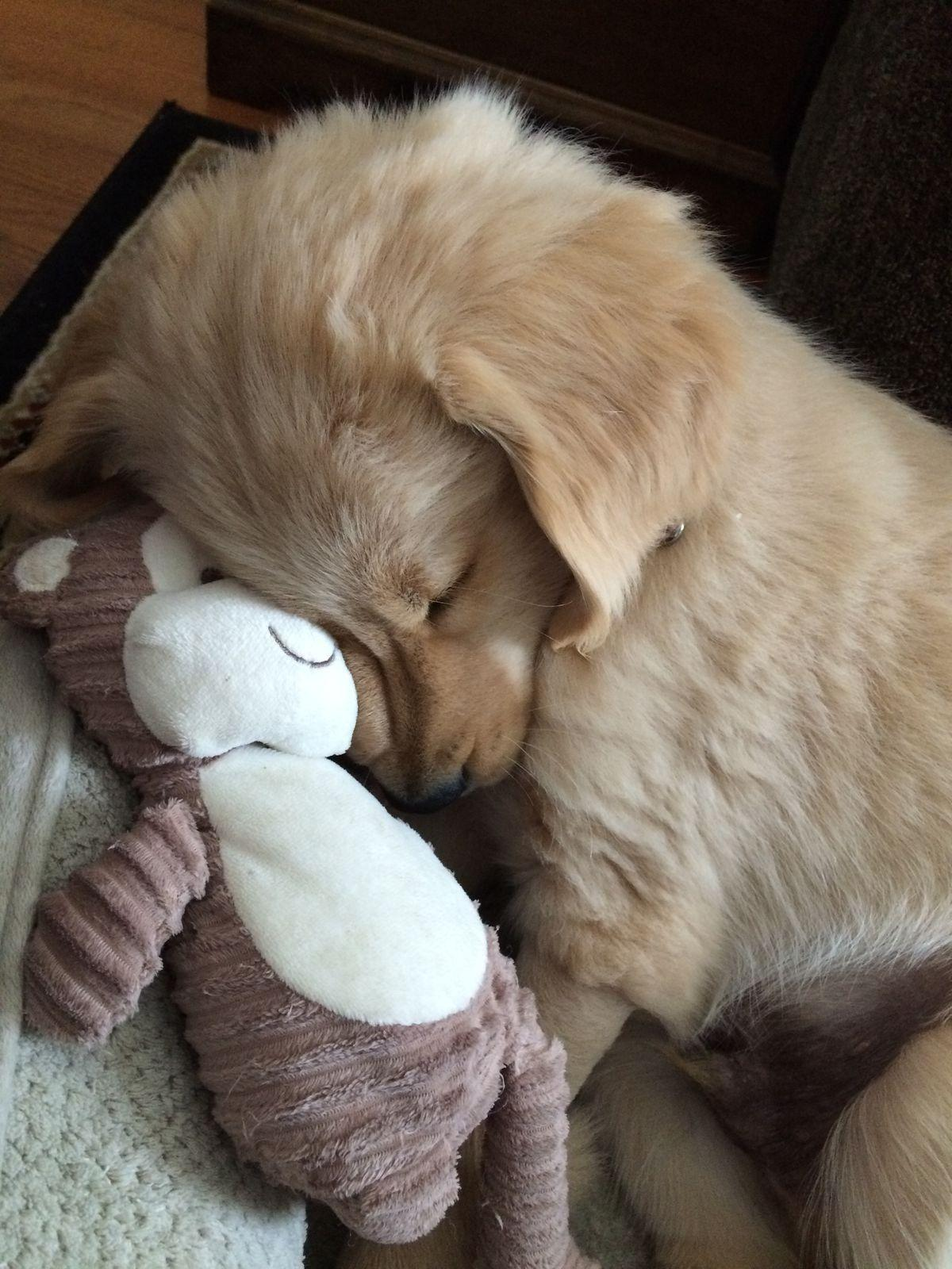non-dog: (6, 499, 606, 1266)
puppy-dog: (6, 80, 952, 1266)
